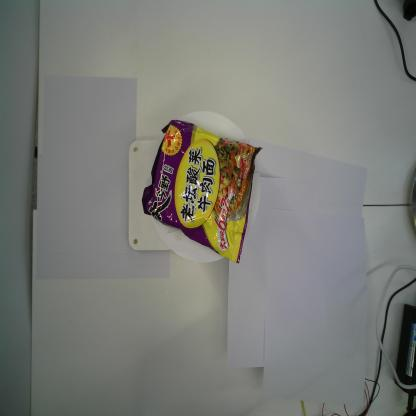Instant Noodles: (141, 118, 263, 265)
